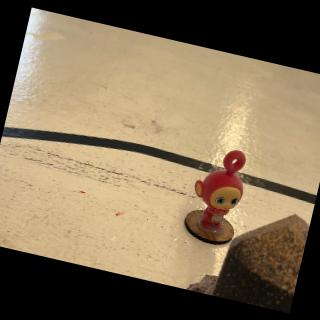teletubby: (194, 150, 245, 230)
